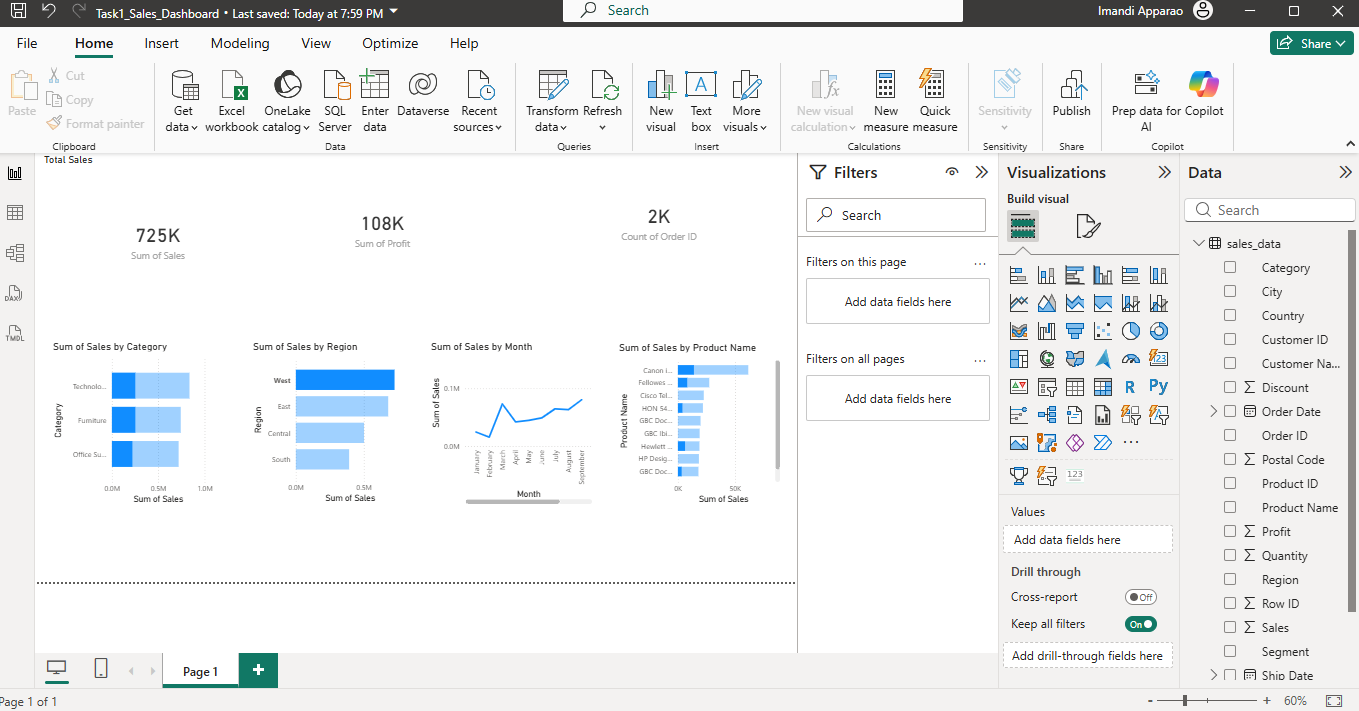

The page's visual inventory and layout, read from the dashboard file:
{"tool":"powerbi","page":{"name":"Page 1","canvas":[1280,720],"ordinal":0},"visuals":[{"type":"advanceCardE03760C5AB684758B56AA29F9E6C257B","title":"Total Sales","fields":{"mainMeasure":["Sum(sales_data.Sales)"]},"box":[10.1,0,393.1,280.5],"z":0},{"type":"advanceCardE03760C5AB684758B56AA29F9E6C257B","fields":{"mainMeasure":["Sum(sales_data.Profit)"]},"box":[332.6,0,502.3,257],"z":1000},{"type":"advanceCardE03760C5AB684758B56AA29F9E6C257B","fields":{"mainMeasure":["Count(sales_data.Order ID)"]},"box":[816.4,0,463.6,233.5],"z":2000},{"type":"clusteredBarChart","fields":{"Category":["sales_data.Category"],"Y":["Sum(sales_data.Sales)"]},"box":[25.2,314.1,278.8,280.5],"z":3000},{"type":"clusteredBarChart","fields":{"Category":["sales_data.Region"],"Y":["Sum(sales_data.Sales)"]},"box":[361.2,314.1,278.8,278.8],"z":4000},{"type":"lineChart","fields":{"Category":["sales_data.Order Date.Variation.Date Hierarchy.Year","sales_data.Order Date.Variation.Date Hierarchy.Quarter","sales_data.Order Date.Variation.Date Hierarchy.Month","sales_data.Order Date.Variation.Date Hierarchy.Day"],"Y":["Sum(sales_data.Sales)"]},"box":[660.2,314.1,280.5,280.5],"z":6000},{"type":"clusteredBarChart","fields":{"Category":["sales_data.Product Name"],"Y":["Sum(sales_data.Sales)"]},"box":[976,315.8,280.5,278.8],"z":7000}]}

Visuals, with their boxes on the page's 1280x720 design canvas (x1, y1, x2, y2). These are canvas units, not pixel positions in the 1359x711 screenshot, which may show the page scaled, cropped or inside an application window:
"Total Sales" advanceCardE03760C5AB684758B56AA29F9E6C257B: crop(10, 0, 403, 280)
advanceCardE03760C5AB684758B56AA29F9E6C257B - Sum(sales_data.Profit): crop(333, 0, 835, 257)
advanceCardE03760C5AB684758B56AA29F9E6C257B - Count(sales_data.Order ID): crop(816, 0, 1280, 234)
clusteredBarChart - sales_data.Category x Sum(sales_data.Sales): crop(25, 314, 304, 595)
clusteredBarChart - sales_data.Region x Sum(sales_data.Sales): crop(361, 314, 640, 593)
lineChart - sales_data.Order Date.Variation.Date Hierarchy.Year x sales_data.Order Date.Variation.Date Hierarchy.Quarter: crop(660, 314, 941, 595)
clusteredBarChart - sales_data.Product Name x Sum(sales_data.Sales): crop(976, 316, 1256, 595)
